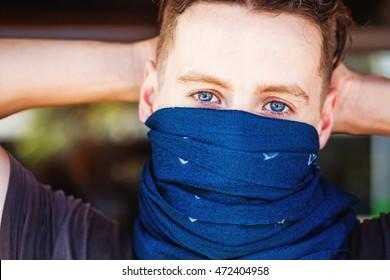scarf-kerchief: (131, 98, 352, 262)
